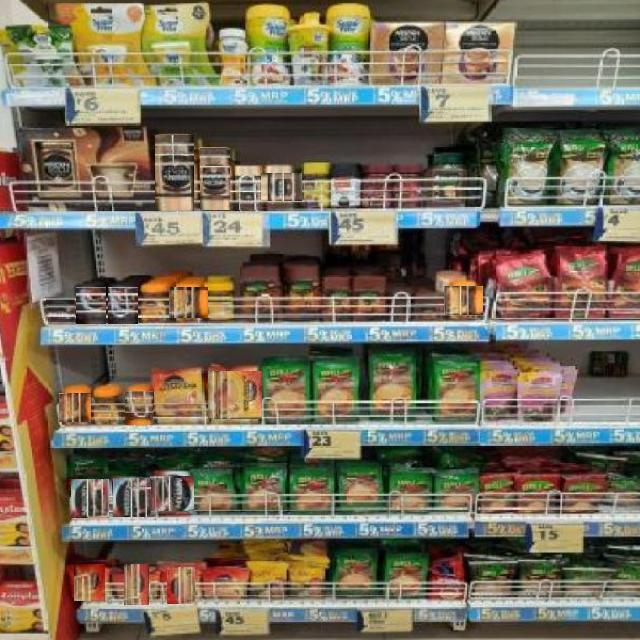Coffee: (155, 134, 194, 211), (154, 370, 203, 423), (208, 372, 262, 419), (199, 147, 230, 210), (150, 476, 194, 511), (71, 479, 109, 518), (114, 478, 151, 517), (256, 173, 302, 201), (169, 287, 208, 318), (73, 565, 105, 601), (108, 286, 138, 324), (76, 286, 106, 324), (444, 286, 483, 315), (205, 571, 245, 599), (236, 167, 261, 210), (167, 566, 195, 604), (140, 285, 168, 323), (124, 565, 149, 605), (125, 390, 153, 425), (59, 393, 92, 422), (92, 391, 120, 425), (46, 299, 75, 323)
